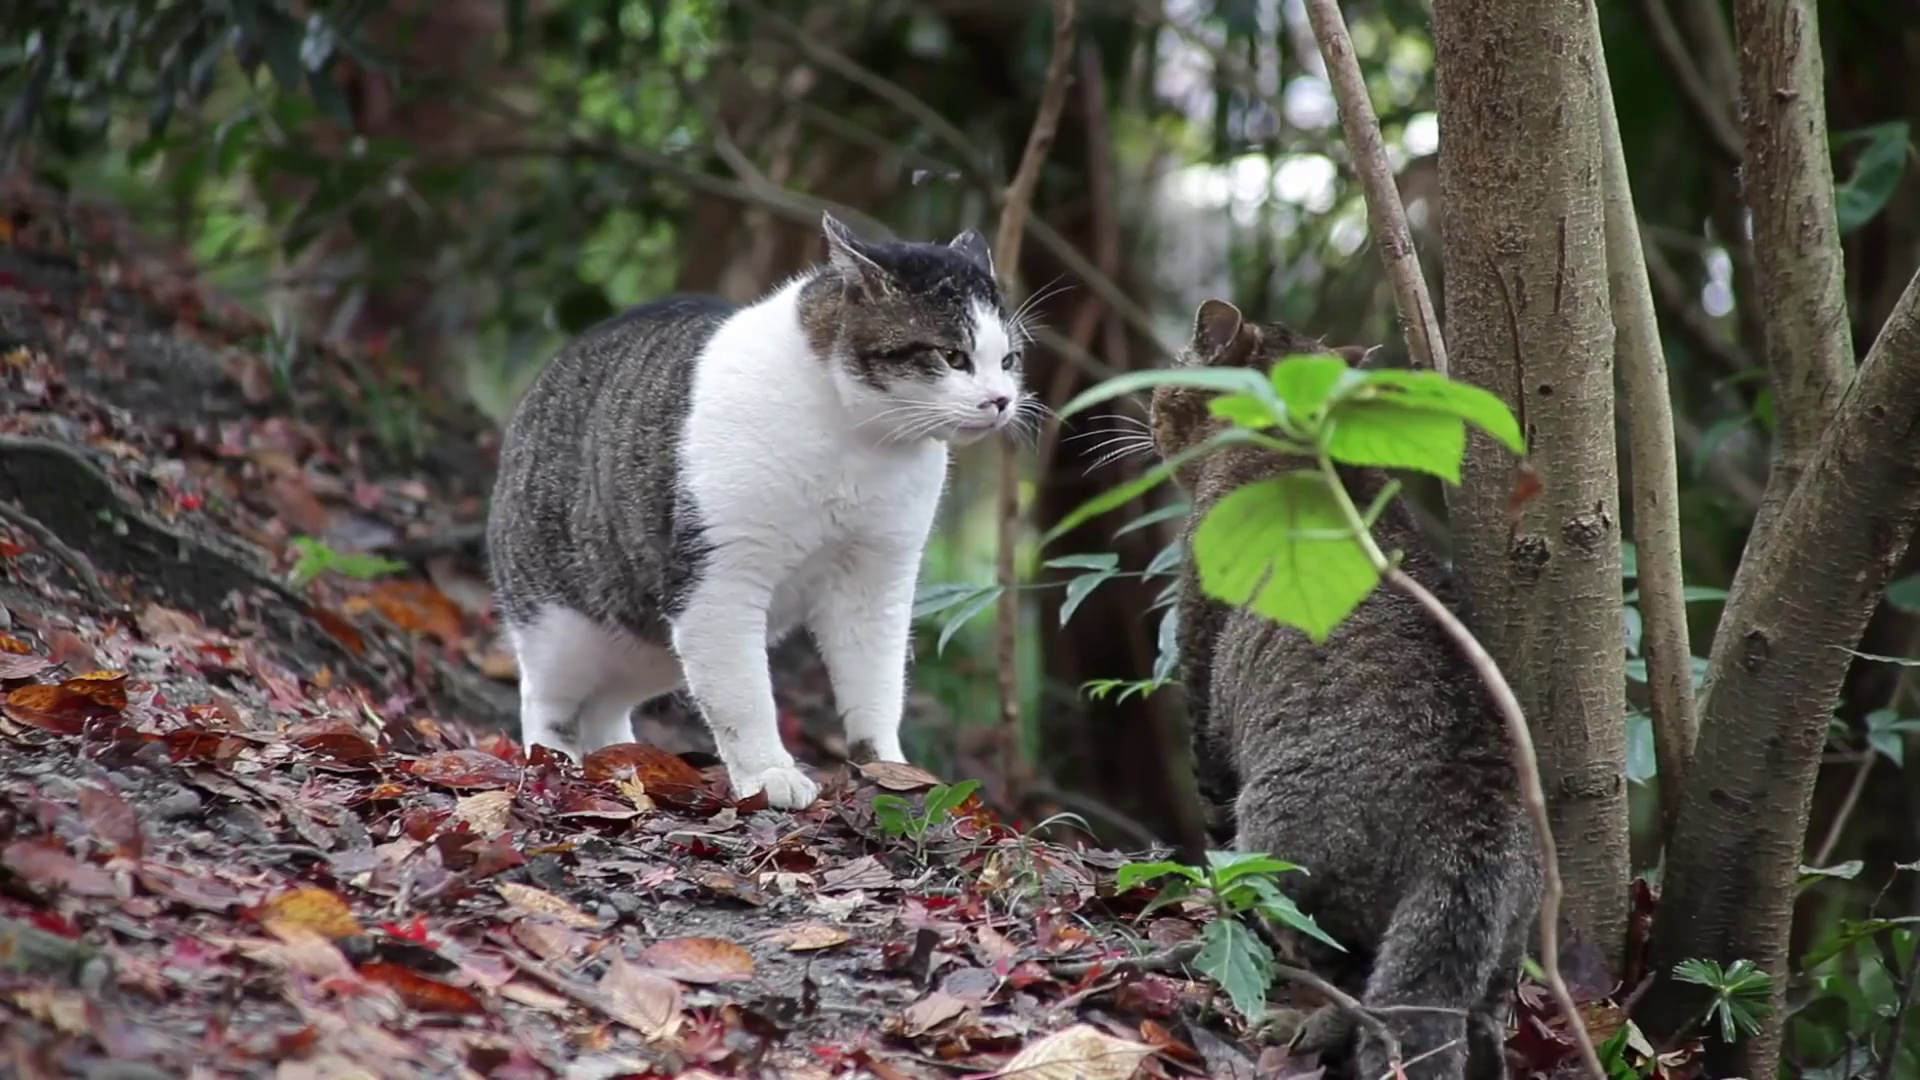black-white: (483, 208, 1025, 808)
pure black: (1149, 301, 1544, 1080)
